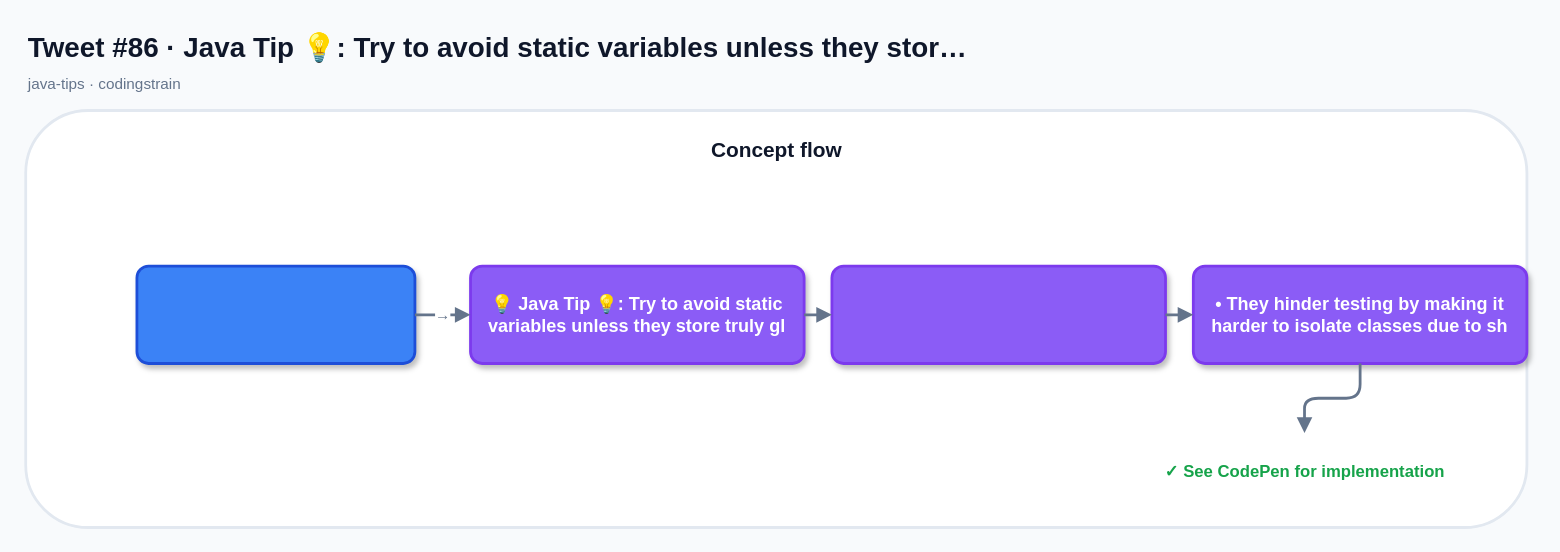
The diagram is 1560 pixels wide and 552 high, and some of its shapes have lost their labels. Each missing label, with the centre of its shape:
Java Tip 💡: Try to avoid static variables unless they store truly glob: the point at 999,316
Problem / context: the point at 276,316
